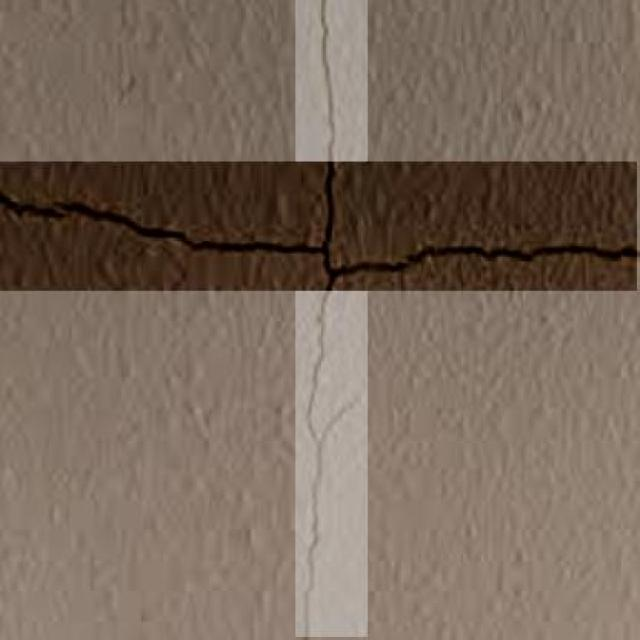Crack: (6, 226, 638, 329), (278, 329, 352, 640), (303, 0, 339, 222)
